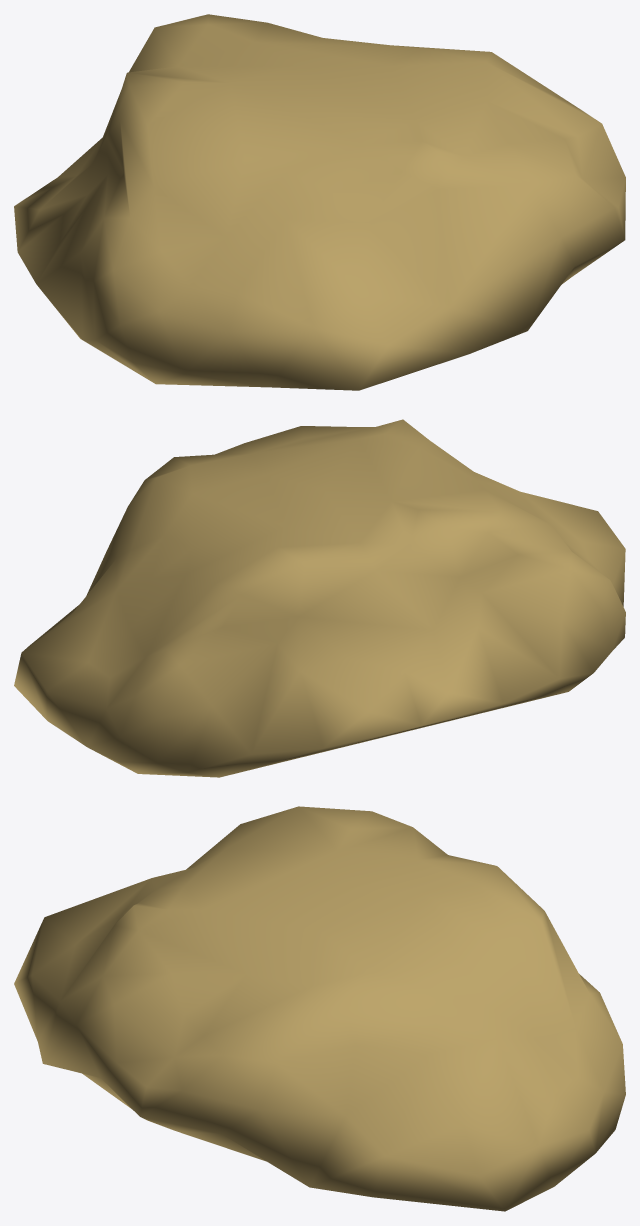
The model's file is Rock4.fbx.
3 views of the same model, one above another, from view 1: azimuth 30°, elevation 25°; view 2: azimuth 150°, elevation 25°; view 3: azimuth 270°, elevation 25° (orthographic). The views are drawn at different scales.
Visible parts, largest first — view 1: Boulder3; view 2: Boulder3; view 3: Boulder3.
Boxes of the visible parts, x1,y1,x2,y2 form: Boulder3: (14,14,625,390); Boulder3: (14,419,625,777); Boulder3: (14,806,625,1211).
Size of the model in its own units: 229 by 104 by 244.
